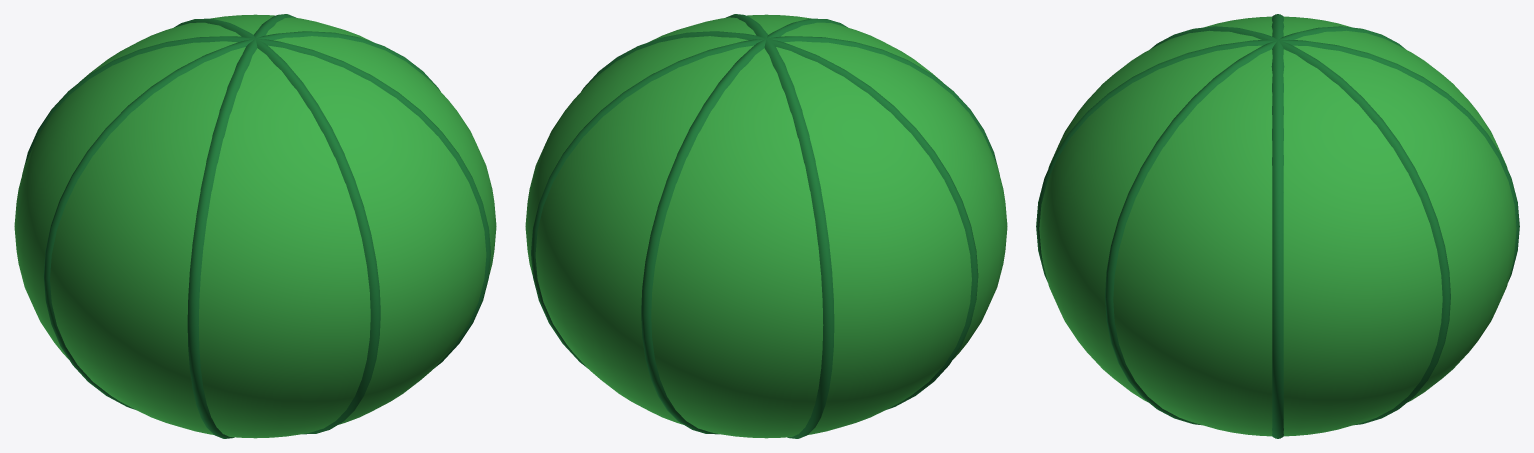
Rendered from meloun.glb.
3 renders of one model, left to right at view 1: azimuth 30°, elevation 25°; view 2: azimuth 150°, elevation 25°; view 3: azimuth 270°, elevation 25°, orthographic.
Parts seen in each view (by area): view 1: meloun_slupka, meloun_pruh_3, meloun_pruh_0, meloun_pruh_2, meloun_pruh_1; view 2: meloun_slupka, meloun_pruh_1, meloun_pruh_0, meloun_pruh_2, meloun_pruh_3; view 3: meloun_slupka, meloun_pruh_2, meloun_pruh_1, meloun_pruh_3, meloun_pruh_0.
Boxes of the visible parts, x1,y1,x2,y2 form: meloun_slupka: [14, 14, 496, 438]; meloun_pruh_3: [187, 14, 296, 438]; meloun_pruh_0: [174, 18, 380, 434]; meloun_pruh_2: [43, 31, 440, 409]; meloun_pruh_1: [22, 36, 490, 368]; meloun_slupka: [525, 14, 1007, 438]; meloun_pruh_1: [725, 14, 834, 438]; meloun_pruh_0: [641, 18, 847, 434]; meloun_pruh_2: [581, 31, 978, 409]; meloun_pruh_3: [531, 36, 999, 368]; meloun_slupka: [1039, 16, 1516, 436]; meloun_pruh_2: [1271, 14, 1284, 438]; meloun_pruh_1: [1105, 26, 1405, 425]; meloun_pruh_3: [1150, 26, 1450, 425]; meloun_pruh_0: [1036, 40, 1519, 282].
Size of the model in its own units: 0.9108 by 0.7742 by 0.9108.
